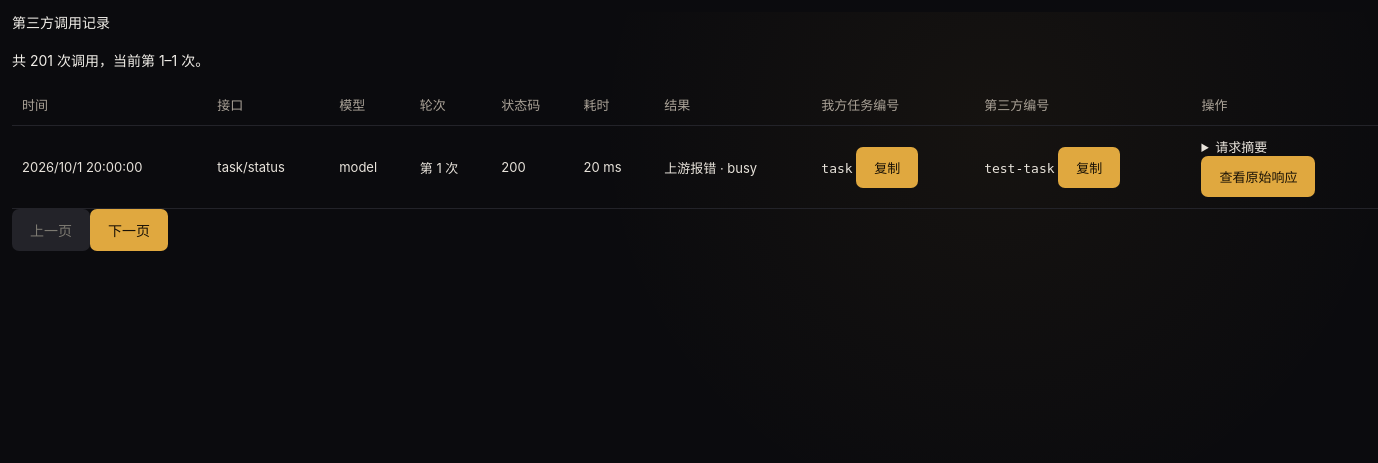
Scenario: 历史正文完整性未知时明确提示
Click the button with aria-label "查看调用 first 的原始响应". click: (1258, 177)
box: [1201,156,1315,197]
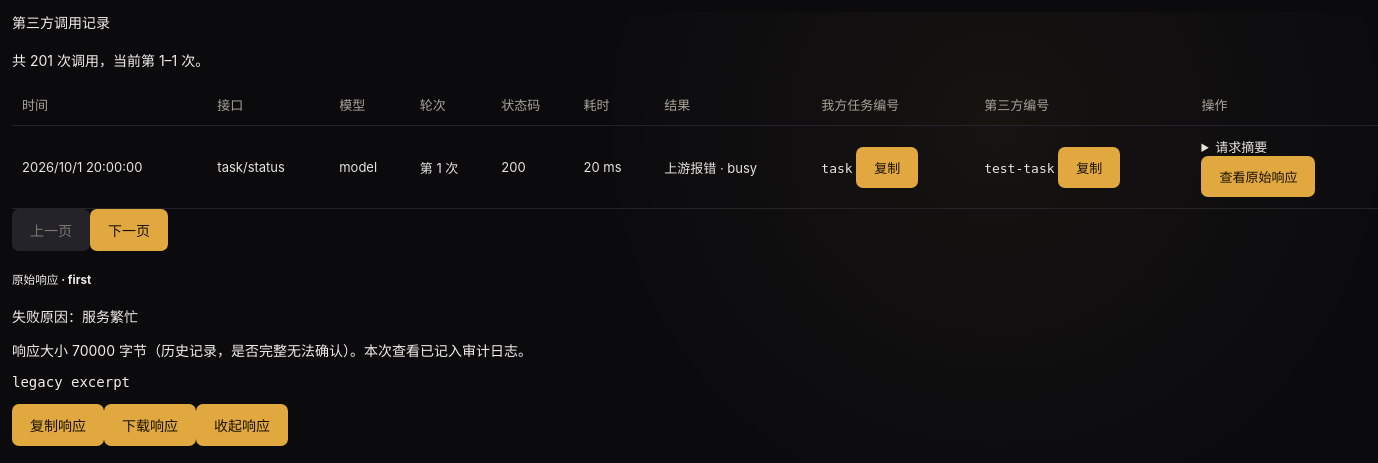
Result: the text "响应大小 70000 字节（历史记录，是否完整无法确认）。本次查看已记入审计日志。" is shown at [12,342,532,359]
